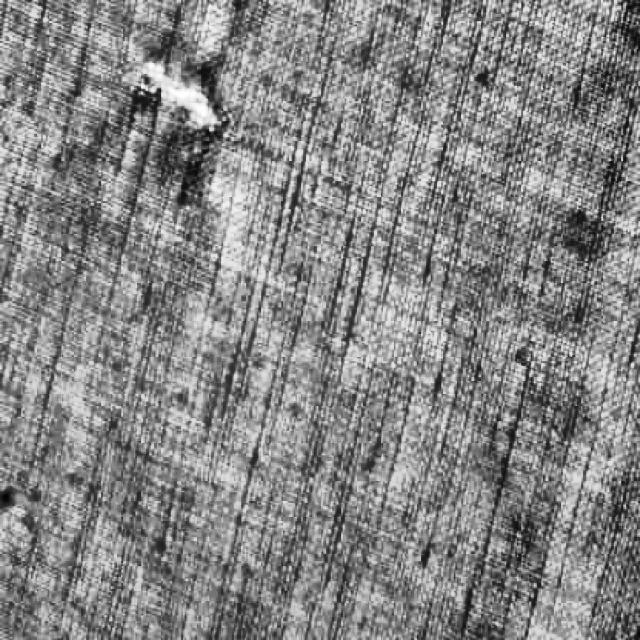hole: (129, 44, 241, 151)
